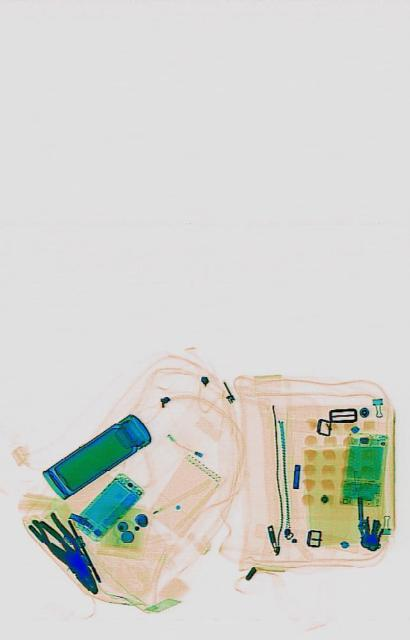Pliers: (28, 496, 103, 606)
